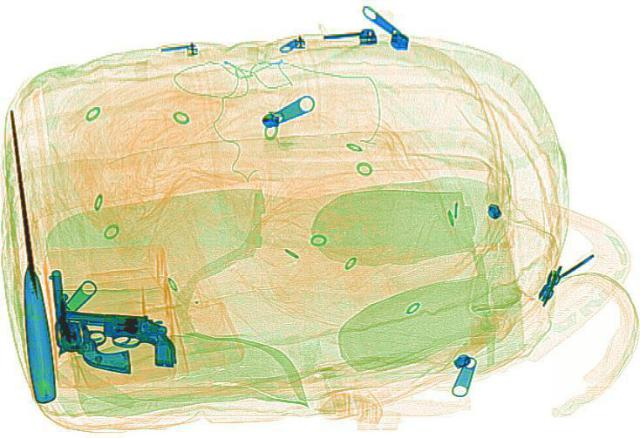Gun: (46, 266, 132, 373), (44, 306, 184, 365)
Knife: (0, 112, 57, 401)
